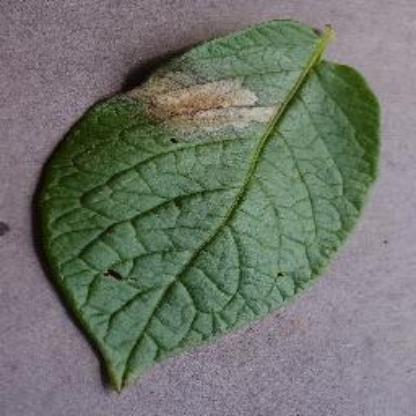Late-Blight: (27, 24, 384, 380)
